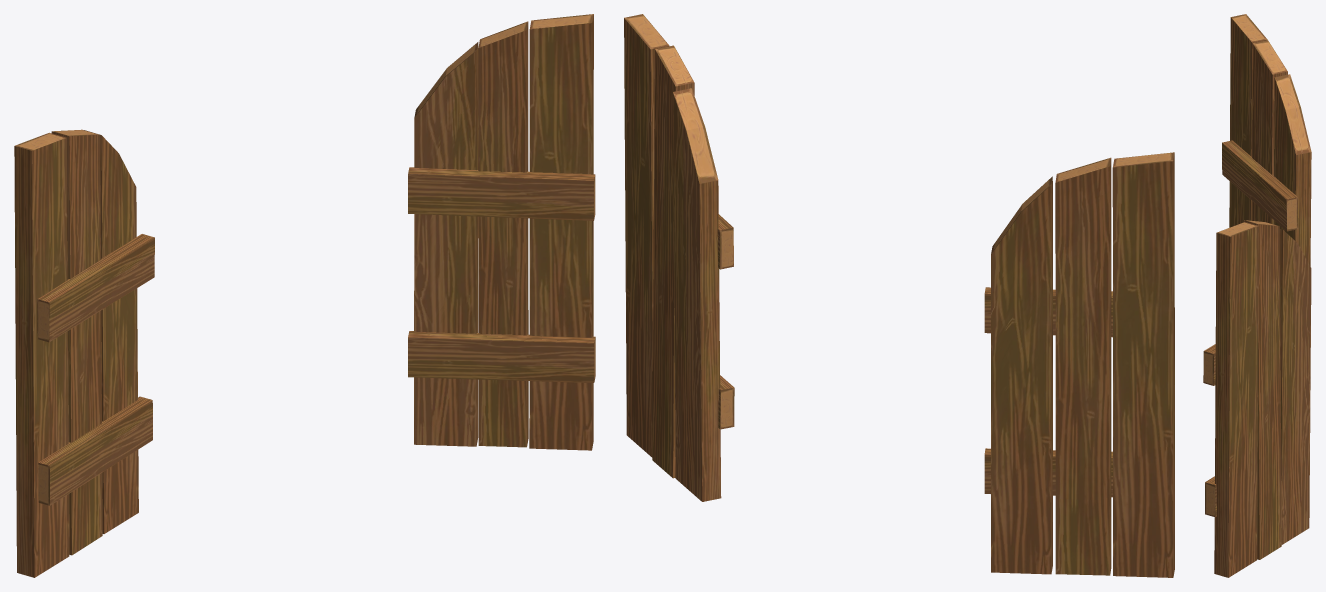
The model's file is WindowShutters_Wide_Round_Open.gltf.
3 renders of one model, left to right at view 1: azimuth 30°, elevation 25°; view 2: azimuth 150°, elevation 25°; view 3: azimuth 270°, elevation 25°, orthographic. The views are drawn at different scales.
Parts seen in each view (by area): view 1: WindowShutters_Wide_Round_Open; view 2: WindowShutters_Wide_Round_Open; view 3: WindowShutters_Wide_Round_Open.
Boxes of the visible parts, x1=… form: WindowShutters_Wide_Round_Open: x1=14, y1=14, x2=595, y2=577; WindowShutters_Wide_Round_Open: x1=624, y1=14, x2=1174, y2=577; WindowShutters_Wide_Round_Open: x1=1203, y1=14, x2=1311, y2=577.
Size of the model in its own units: 2.3 by 1.65 by 0.4724.
Materials: 1 (1 with a texture image).
